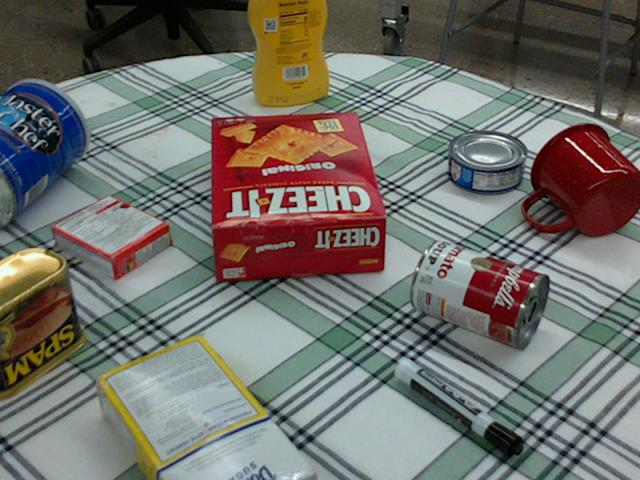cracker_box: (205, 111, 382, 278)
gelatin_box: (52, 193, 171, 280)
large_marker: (396, 358, 522, 459)
master_chef_can: (0, 79, 88, 229)
mug: (524, 123, 639, 237)
mustard_bottle: (248, 0, 328, 105)
potted_meat_can: (0, 245, 85, 397)
sugar_box: (89, 337, 313, 479)
tomato_soup_can: (409, 238, 548, 349)
tuna_fish_can: (448, 130, 528, 194)
